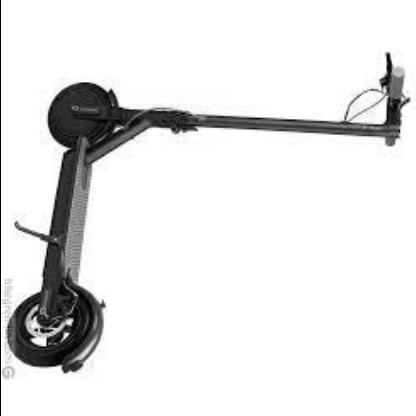bike: (5, 64, 414, 378), (6, 81, 201, 375)
